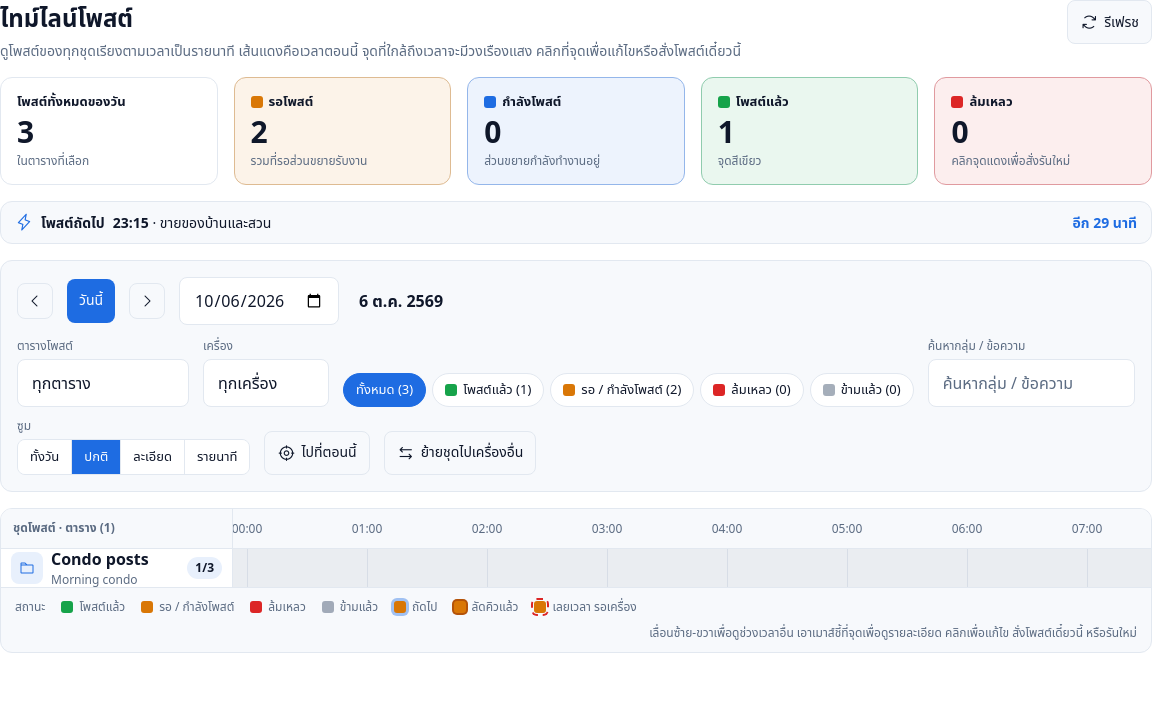
Test: TimelinePageComponent › change extension in the middle of the day › starts with the set of the extension the timeline is filtered to
This screenshot has width=1152, height=720.
Select "Home PC" in the dropdown labelled "เครื่อง" at (266, 382), box [203,358,329,406]
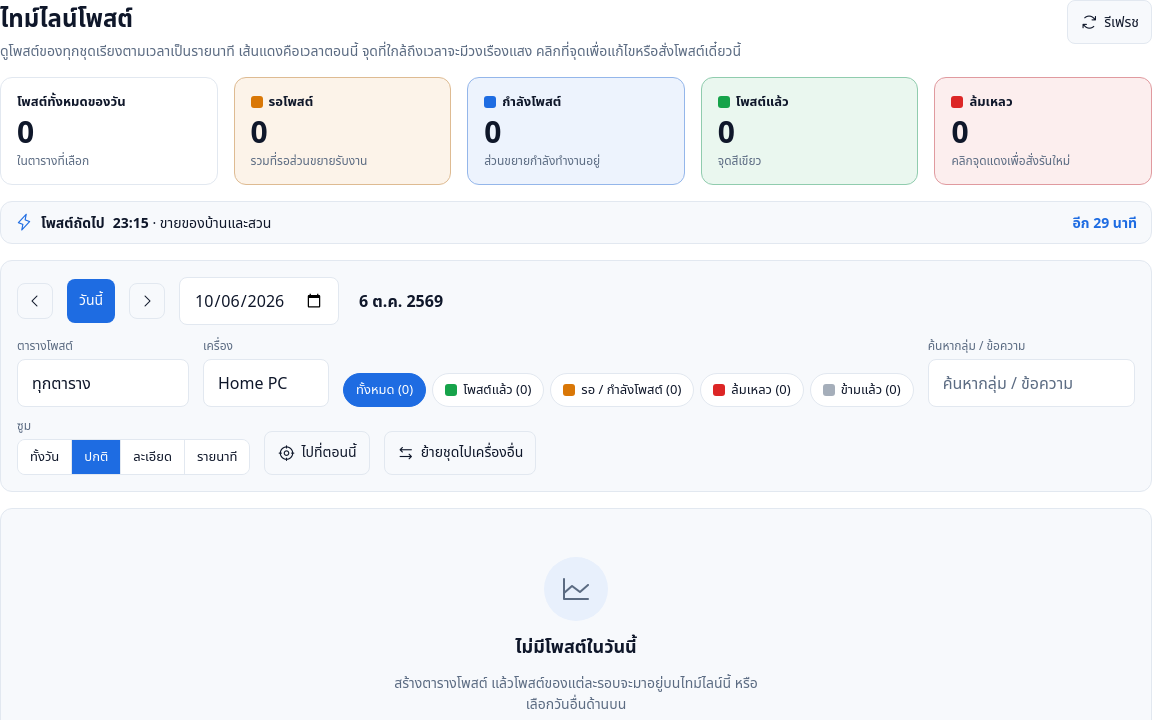
Click the button with test id "handover-btn".
click(460, 452)  # box [384,430,536,474]
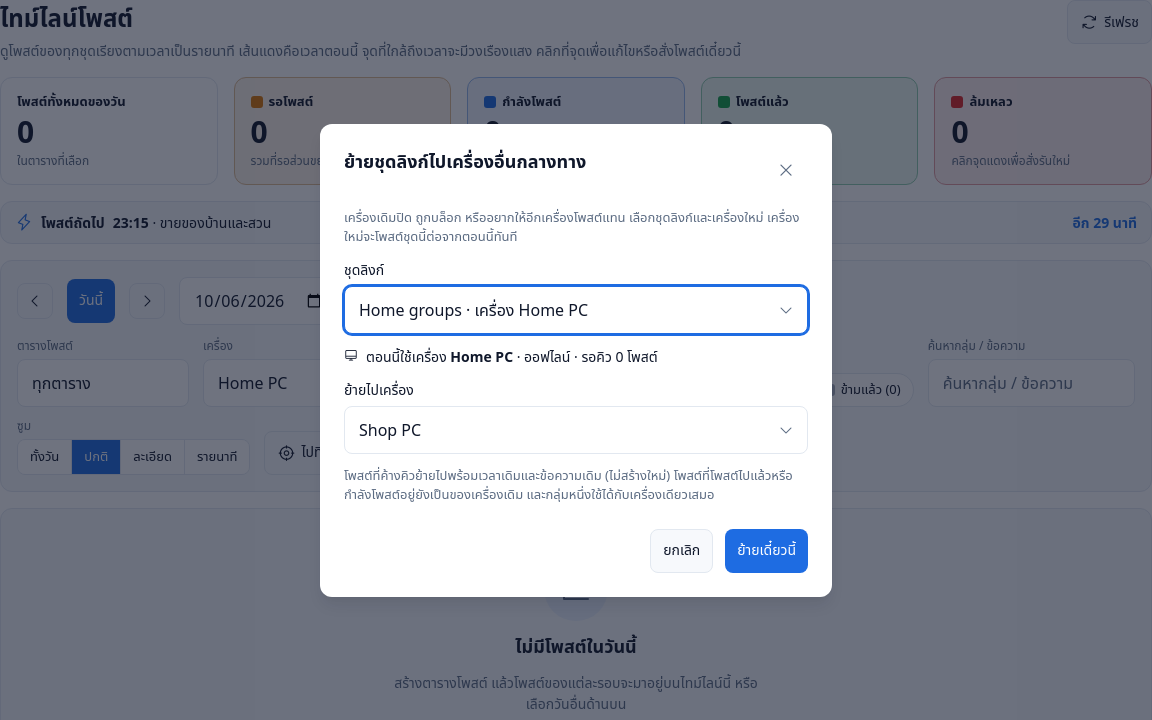
Expected: the element with test id "hand-from" shows "Home PC", [450,346,513,366]
Expected: the dropdown labelled "ย้ายไปเครื่อง" shows "Shop PC", [344,406,808,454]
